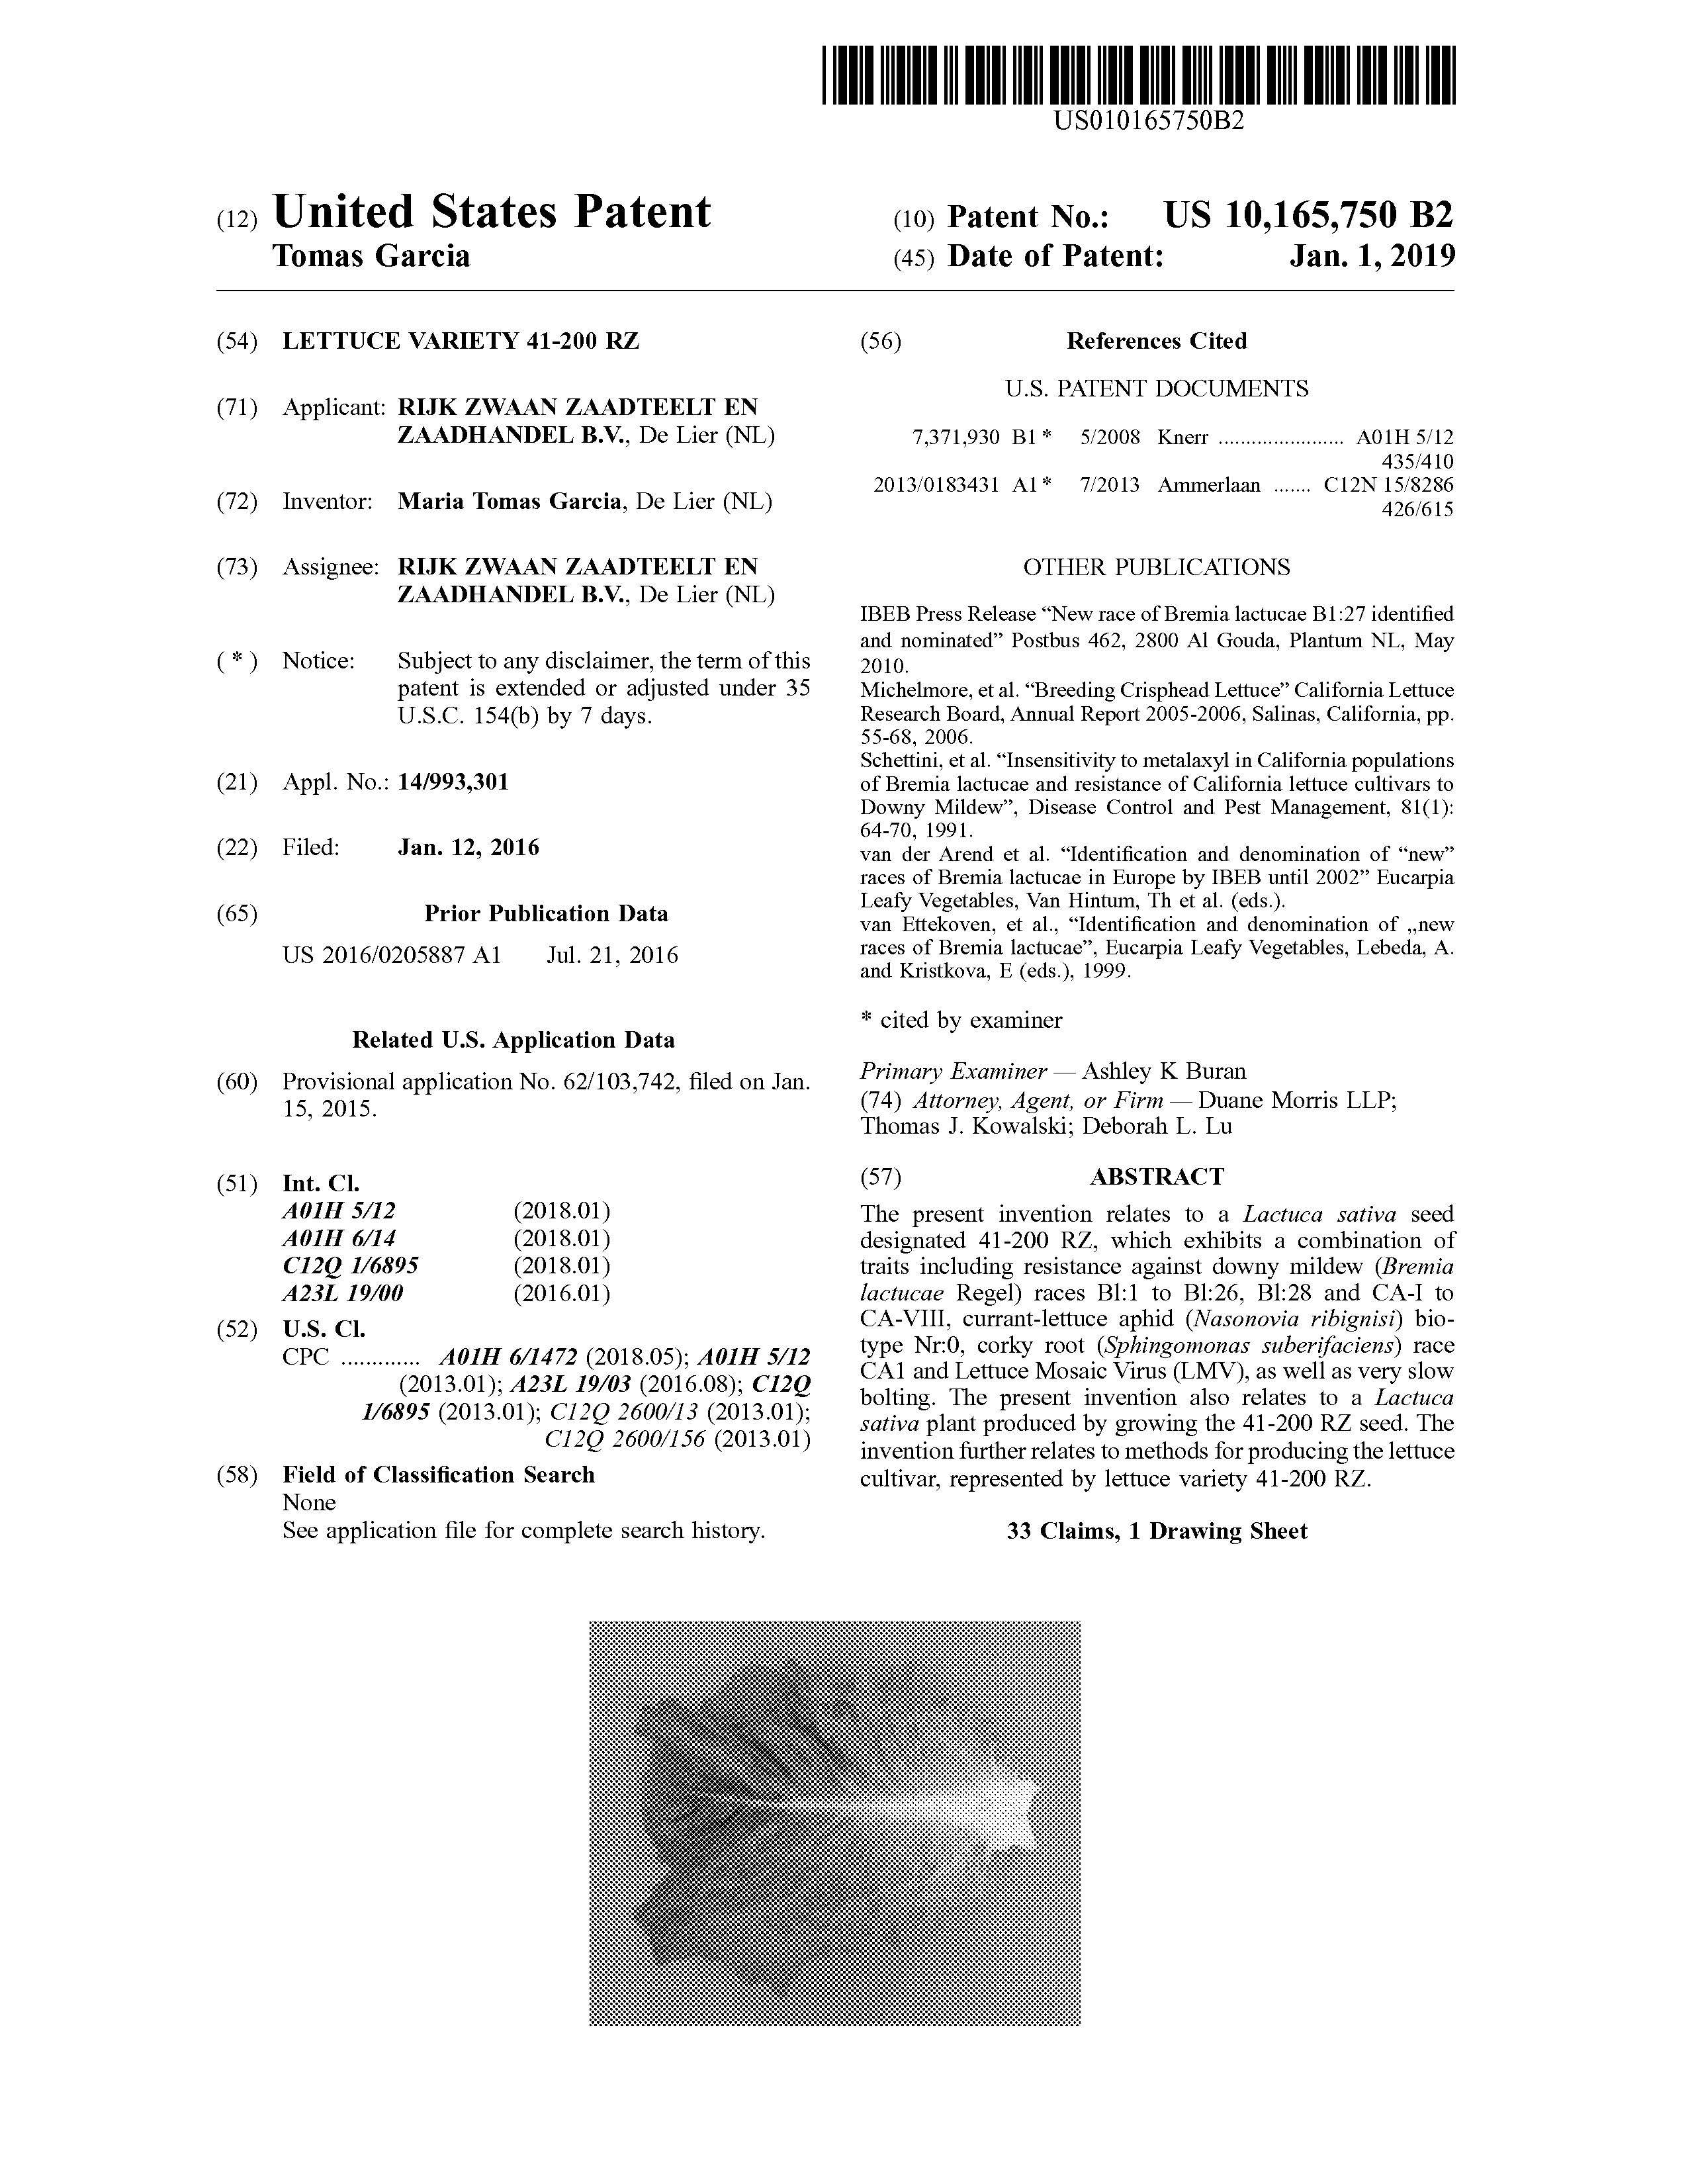patent image: (581, 1599, 1110, 2043)
